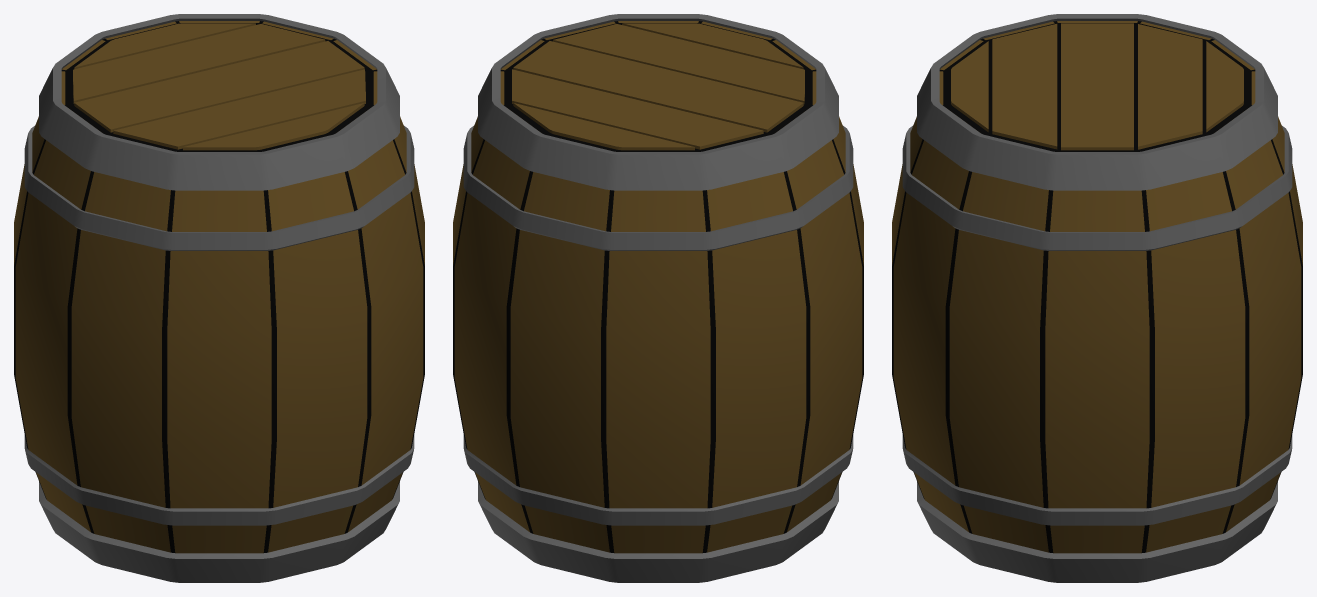
File: SM_Barrel.fbx
3 views of the same model, side by side, from view 1: azimuth 30°, elevation 25°; view 2: azimuth 150°, elevation 25°; view 3: azimuth 270°, elevation 25° (orthographic).
Parts seen in each view (by area): view 1: Barrel; view 2: Barrel; view 3: Barrel.
Part boxes in pixels (x1=…): Barrel: x1=14, y1=14, x2=424, y2=582; Barrel: x1=453, y1=14, x2=863, y2=582; Barrel: x1=892, y1=14, x2=1302, y2=582.
Size of the model in its own units: 289 by 333 by 289.
